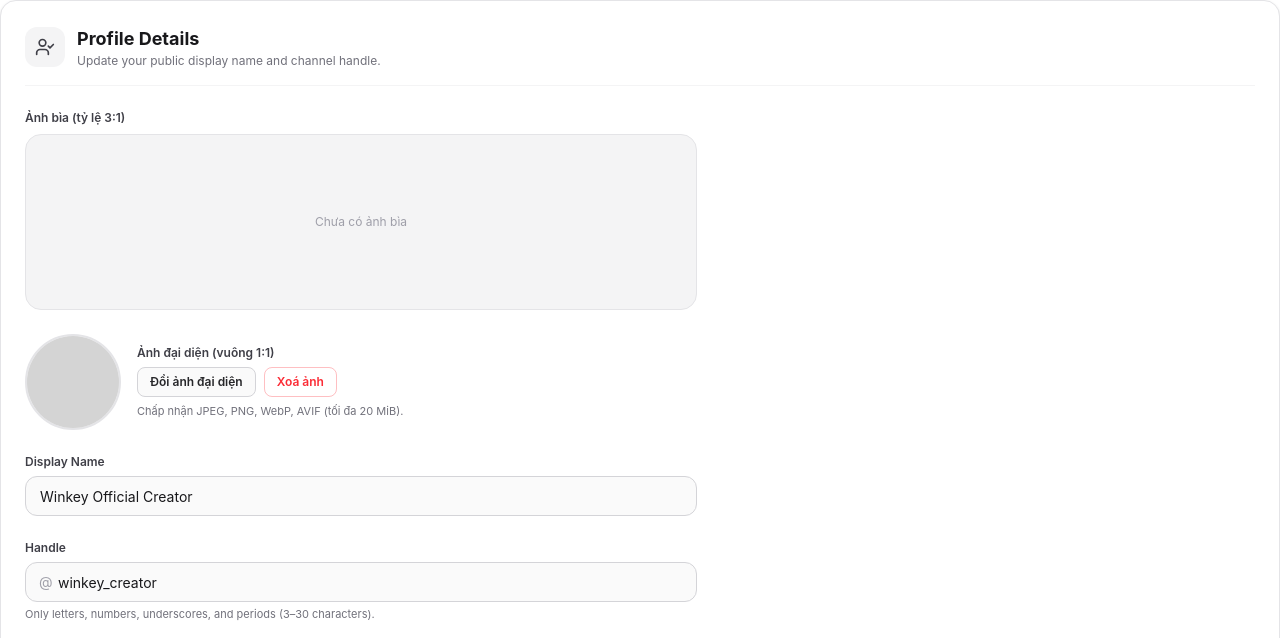
Test: Task U5: Account Settings Page & Components › Profile Settings › blocks submission and shows inline error for invalid handle format
Replace the text in the field labelled "Handle" with "bad@handle!" at [361, 582], box [25,562,697,602]
(page scrolled)
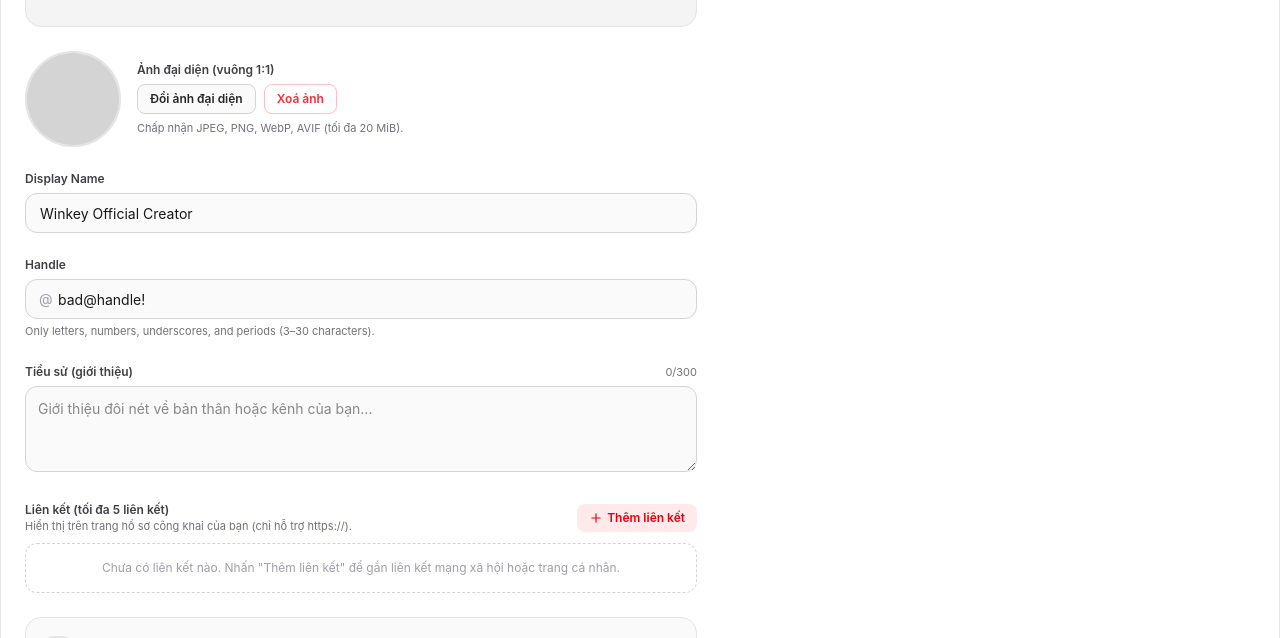
Submit the form named "Save Changes"
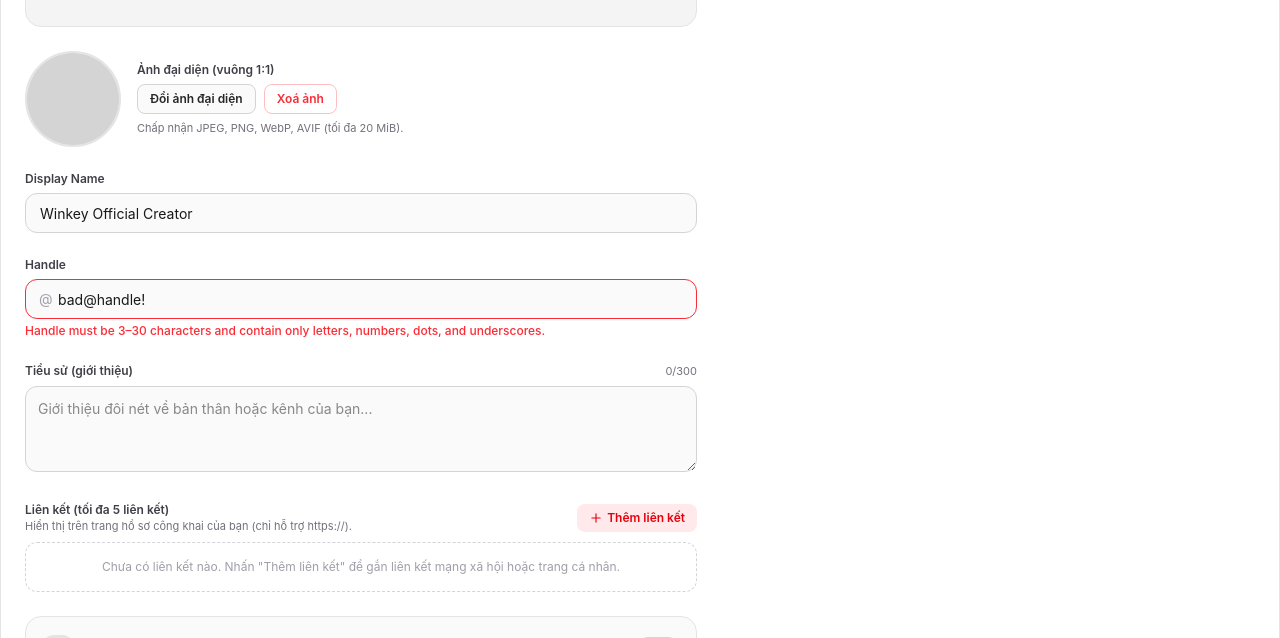
expect the text "Handle must be 3–30 characters and contain only letters, numbers, dots, and underscores." is shown: met, box [25,323,545,338]
